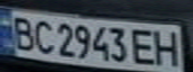2: (51, 19, 75, 57)
3: (109, 25, 130, 64)
4: (90, 24, 112, 62)
9: (72, 21, 93, 60)
B: (6, 14, 39, 52)
C: (30, 17, 57, 55)
E: (127, 26, 160, 66)
H: (151, 27, 184, 68)
